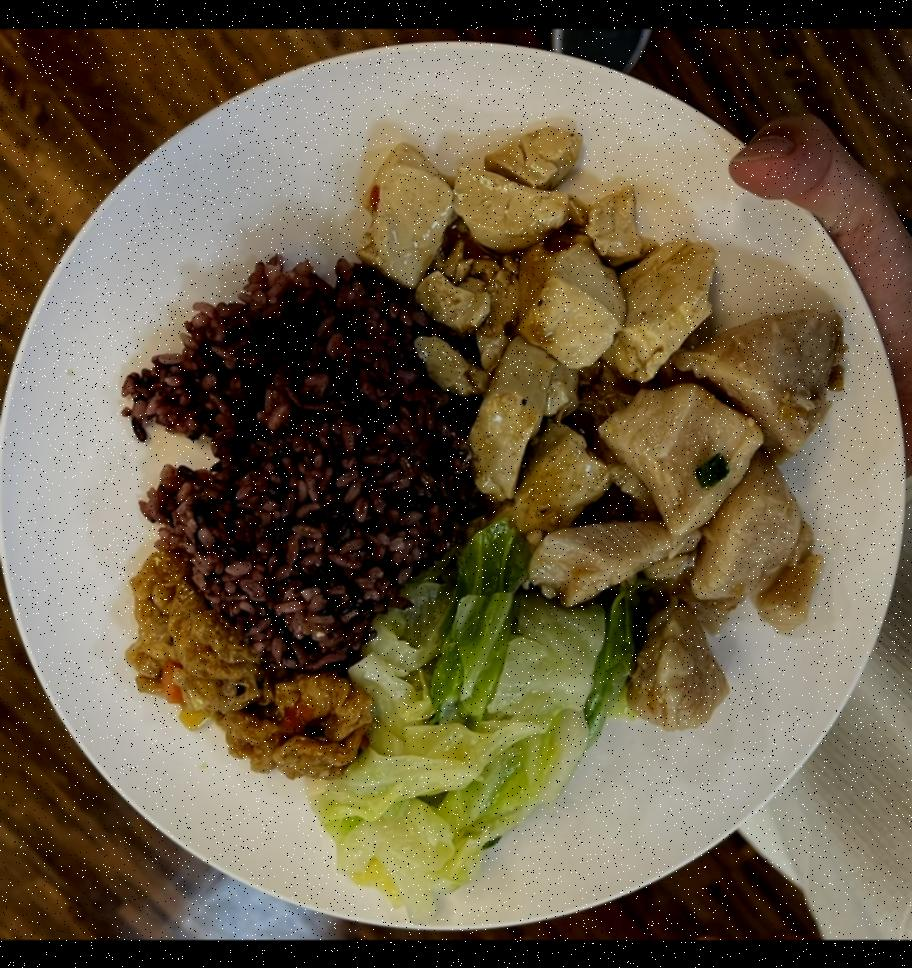big fried chicken leg: (0, 38, 907, 940)
braised fish: (116, 248, 462, 667)
braised fish fillet: (366, 116, 699, 539), (314, 536, 637, 904), (122, 549, 364, 780)
braised pork: (528, 296, 853, 734)
